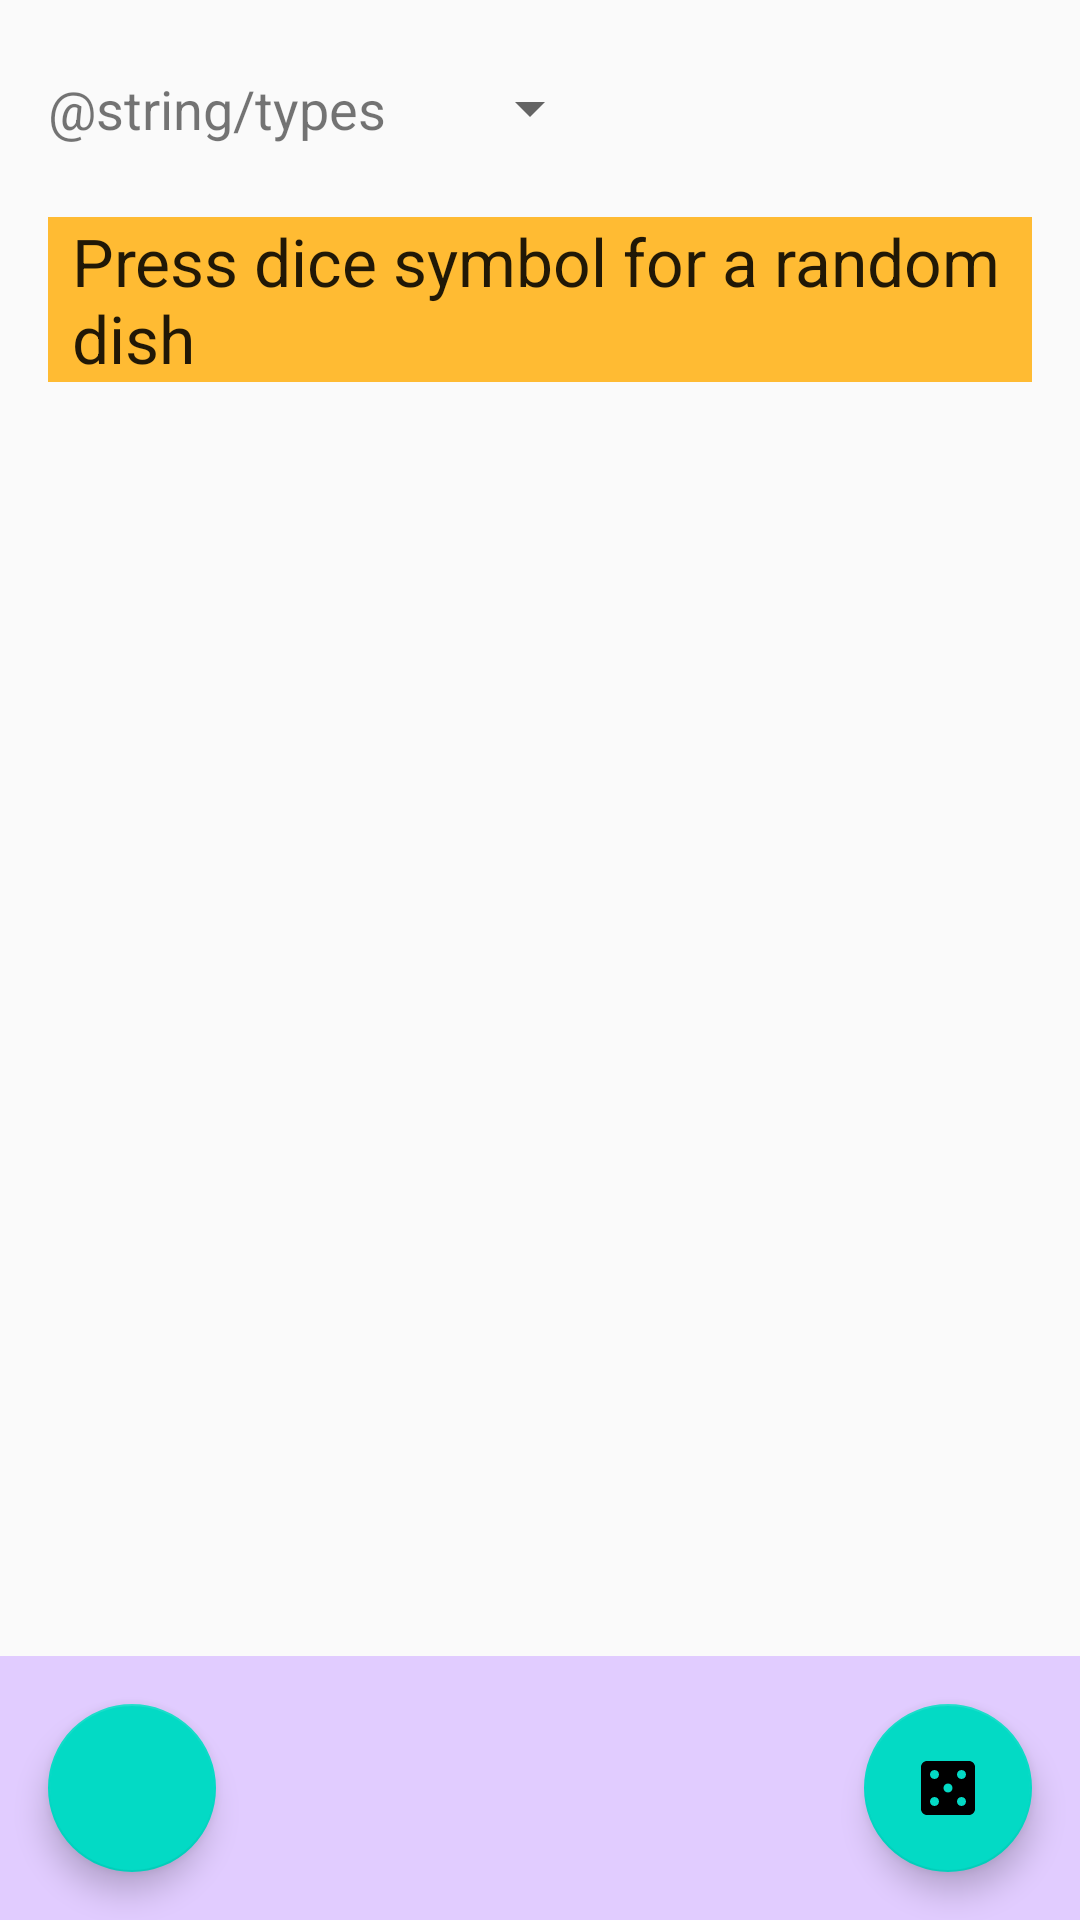

Icons on this 1080 x 1920 Android screen, each with the point to tap as point (x, y):
Rand dish: point (948, 1788)
